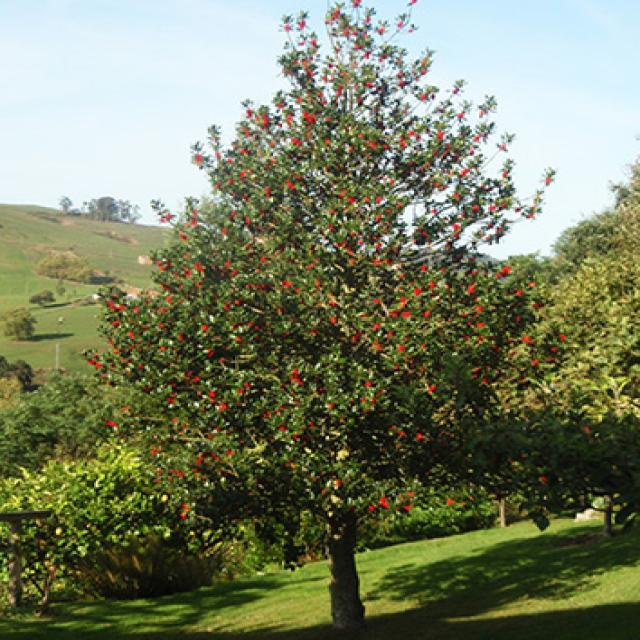acebo: (75, 5, 612, 637)
